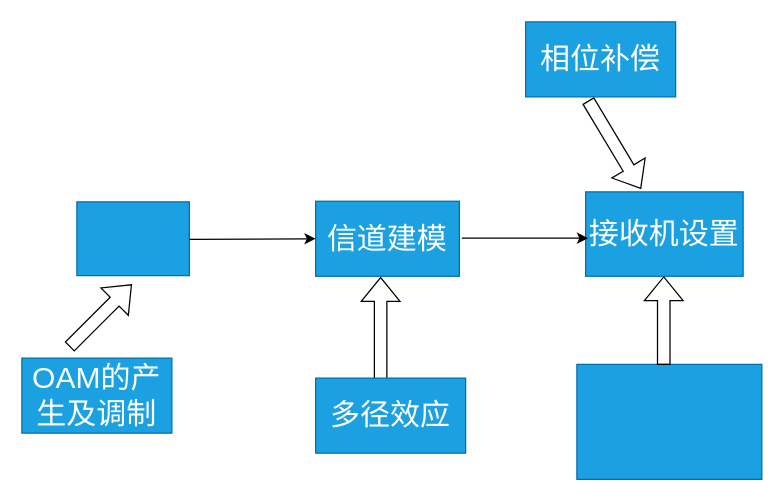
Image size: 784x501. Some labels were removed from this diagram. Here are the shapes that lost their labels. From the top down, the box of each, then its label:
(76, 201, 189, 276): 发射机
(576, 363, 762, 479): 模态分离和波束解复用
